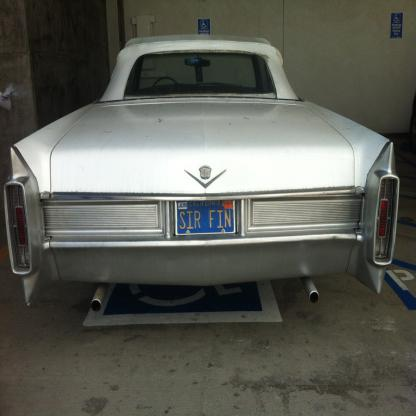Car: (4, 34, 400, 312)
